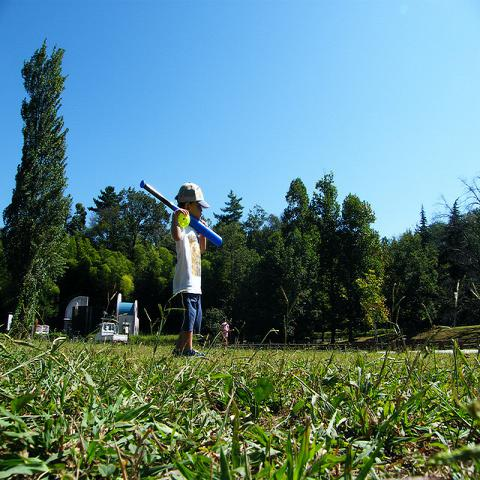truck: (94, 322, 128, 344)
